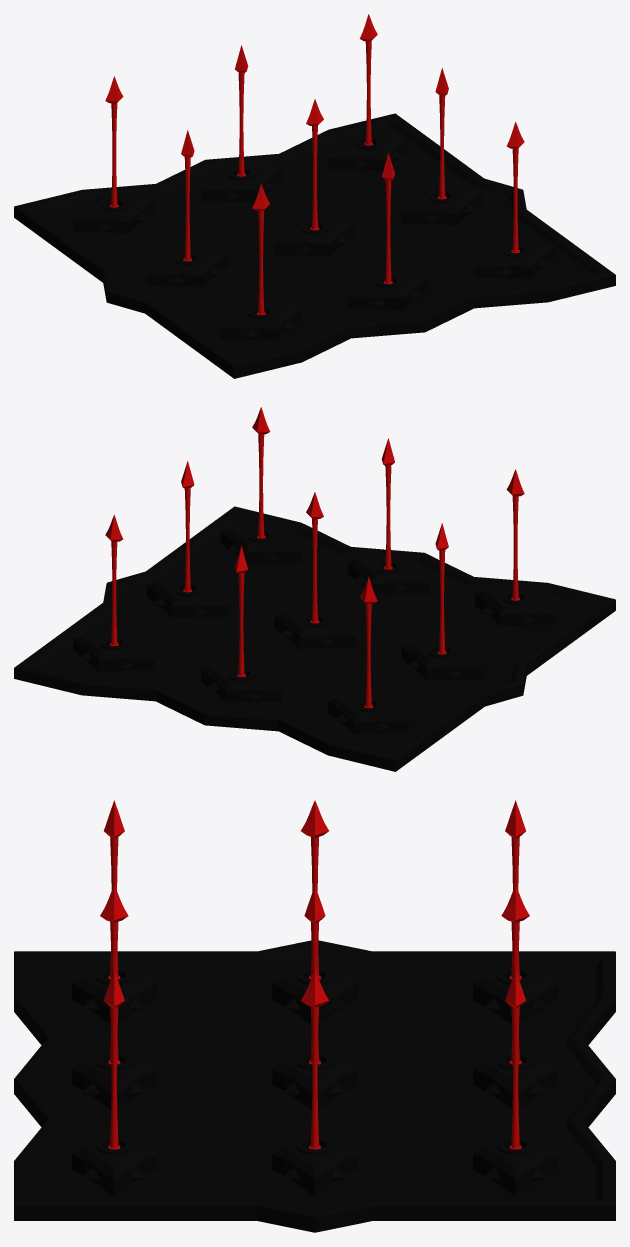
File: SM_HR_Spikes.fbx
The picture shows the model from 3 angles, top to bottom: view 1: azimuth 30°, elevation 25°; view 2: azimuth 150°, elevation 25°; view 3: azimuth 270°, elevation 25°; orthographic projection. The views are drawn at different scales.
Parts seen in each view (by area): view 1: SM_HR_Spikes; view 2: SM_HR_Spikes; view 3: SM_HR_Spikes.
Part boxes in pixels (x1=…): SM_HR_Spikes: x1=14, y1=14, x2=615, y2=378; SM_HR_Spikes: x1=14, y1=407, x2=615, y2=771; SM_HR_Spikes: x1=14, y1=800, x2=615, y2=1232.
Bounding box in the file's own units: 328 × 115 × 300.
